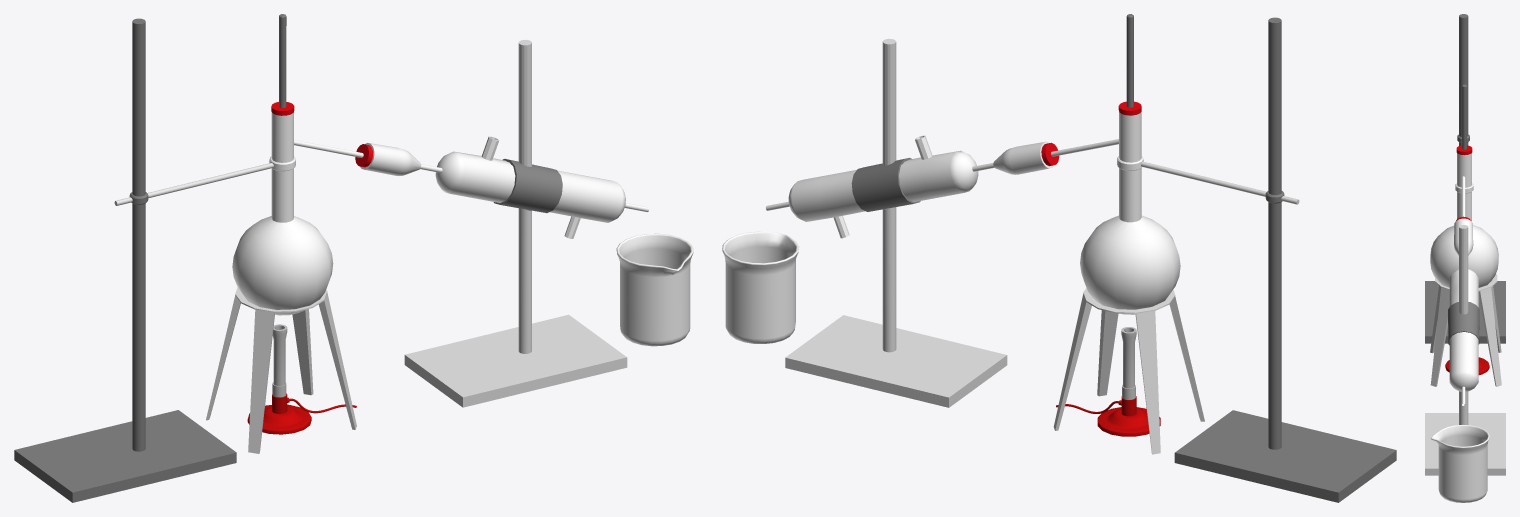
Rendered from Separation_of_two_miscible_liquids.fbx.
The picture shows the model from 3 angles, left to right: view 1: azimuth 30°, elevation 25°; view 2: azimuth 150°, elevation 25°; view 3: azimuth 270°, elevation 25°; orthographic projection. The views are drawn at different scales.
Parts seen in each view (by area): view 1: pCube5, pCube4, polySurface17, polySurface4, pSphere3, pCylinder21, polySurface13, pCylinder24, bunsun_burner, polySurface21, polySurface19, pCylinder22 (+1 smaller); view 2: pCube5, pCube4, polySurface17, polySurface4, pSphere3, pCylinder21, polySurface13, pCylinder24, bunsun_burner, polySurface21, polySurface19, pCylinder22 (+1 smaller); view 3: polySurface4, polySurface17, pCube5, polySurface13, pSphere3, pCube4, pCylinder24, pCylinder21, polySurface21, polySurface19, polySurface3, pCylinder23 (+2 smaller).
Part boxes in pixels (box(x1,y1,x2,y2)): pCube5: box(404, 314, 627, 407); pCube4: box(14, 410, 236, 502); polySurface17: box(232, 112, 333, 315); polySurface4: box(616, 233, 693, 346); pSphere3: box(435, 136, 625, 238); pCylinder21: box(129, 18, 148, 451); polySurface13: box(206, 287, 356, 453); pCylinder24: box(518, 39, 531, 353); bunsun_burner: box(247, 324, 356, 434); polySurface21: box(493, 159, 562, 213); polySurface19: box(360, 143, 421, 175); pCylinder22: box(114, 163, 273, 205); pCube5: box(785, 315, 1007, 407); pCube4: box(1174, 410, 1396, 502); polySurface17: box(1080, 111, 1180, 314); polySurface4: box(722, 231, 798, 343); pSphere3: box(788, 135, 978, 238); pCylinder21: box(1265, 17, 1284, 449); polySurface13: box(1053, 288, 1204, 454); pCylinder24: box(882, 38, 896, 352); bunsun_burner: box(1056, 327, 1160, 436); polySurface21: box(851, 157, 920, 211); polySurface19: box(993, 141, 1054, 174); pCylinder22: box(1141, 161, 1299, 204); polySurface4: box(1431, 424, 1489, 502); polySurface17: box(1430, 153, 1498, 287); pCube5: box(1425, 413, 1505, 475); polySurface13: box(1430, 274, 1501, 386); pSphere3: box(1449, 269, 1478, 391); pCube4: box(1425, 281, 1505, 343); pCylinder24: box(1459, 225, 1468, 424); pCylinder21: box(1457, 14, 1469, 145); polySurface21: box(1448, 302, 1479, 345); polySurface19: box(1454, 218, 1473, 255); polySurface3: box(1462, 84, 1466, 149); pCylinder23: box(1462, 176, 1465, 405).
Bounding box in the file's own units: 122 × 79.89 × 19.18.
